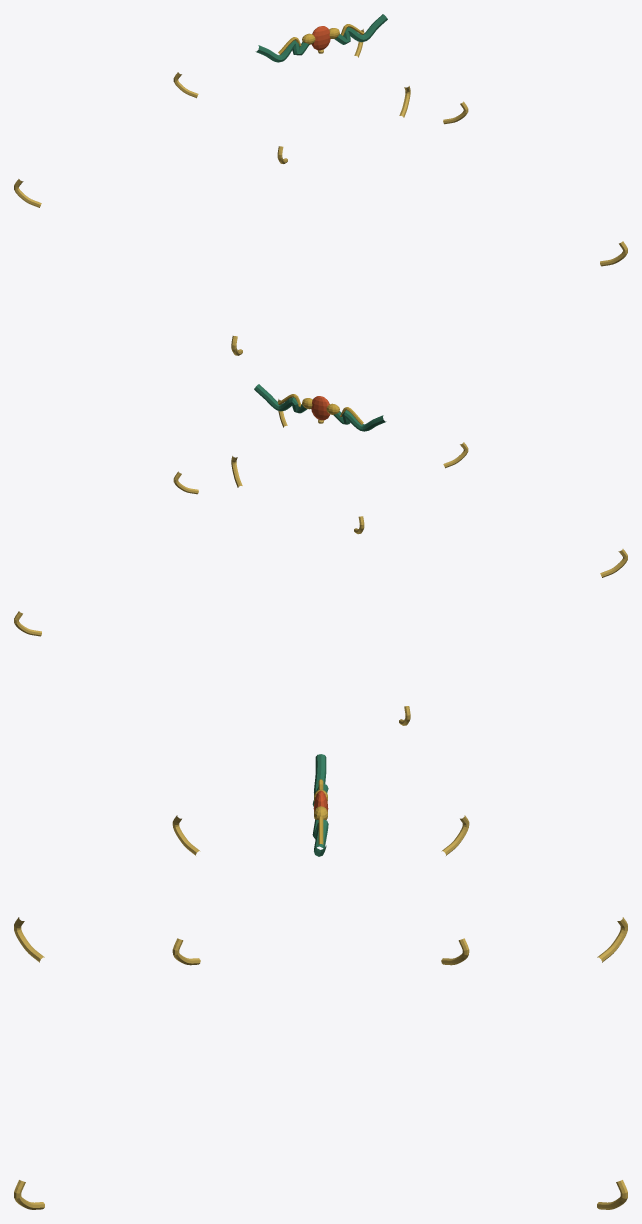
Rendered from phuvanlau-hero.glb.
3 renders of one model, top to bottom at view 1: azimuth 30°, elevation 25°; view 2: azimuth 150°, elevation 25°; view 3: azimuth 270°, elevation 25°, orthographic. The views are drawn at different scales.
Parts seen in each view (by area): view 1: phuvanlau_hero_ornaments; view 2: phuvanlau_hero_ornaments; view 3: phuvanlau_hero_ornaments.
Part boxes in pixels (box(x1,y1,x2,y2)): phuvanlau_hero_ornaments: box(14, 14, 627, 355); phuvanlau_hero_ornaments: box(14, 384, 627, 725); phuvanlau_hero_ornaments: box(14, 754, 627, 1209).
Size of the model in its own units: 13.5 by 6.87 by 13.
